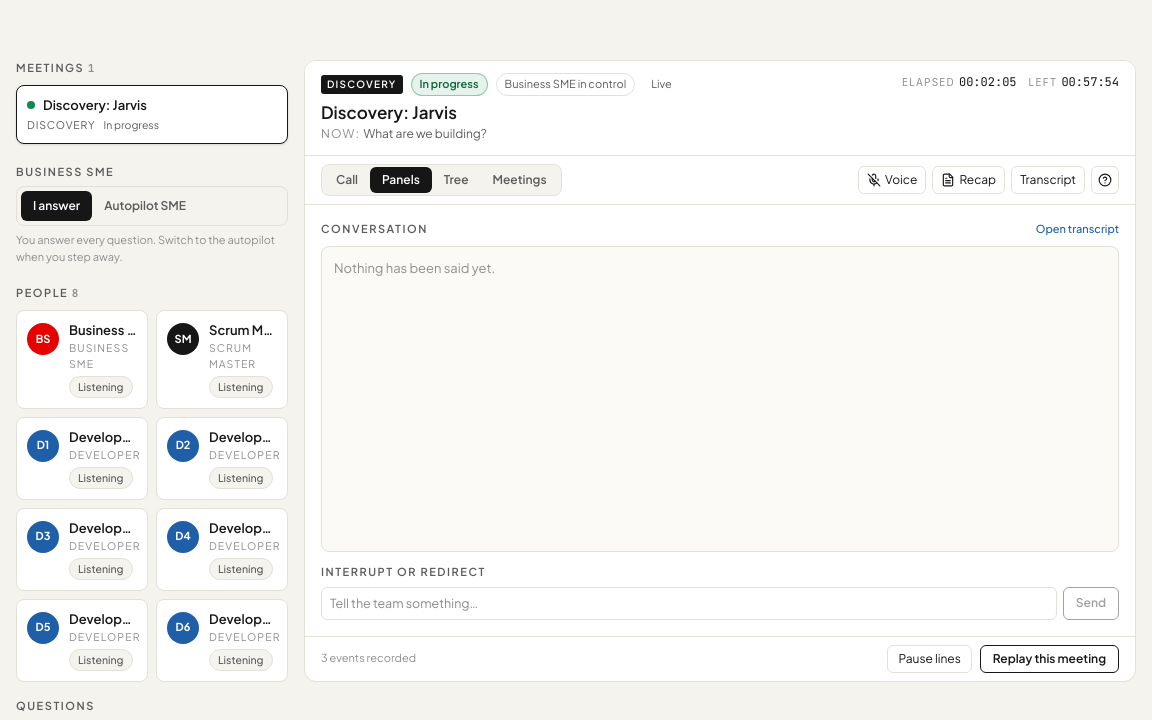
Test: the conversation › says so when nothing has been said, and opens the transcript in a dialog that closes
This screenshot has width=1152, height=720.
Expected: the header with test id "meeting-header" is shown, [305,61,1135,156]
Expected: the text "Nothing has been said yet." is shown, [334,260,495,276]
Click the button "Open transcript" at (1077, 229), box [1036,221,1119,238]
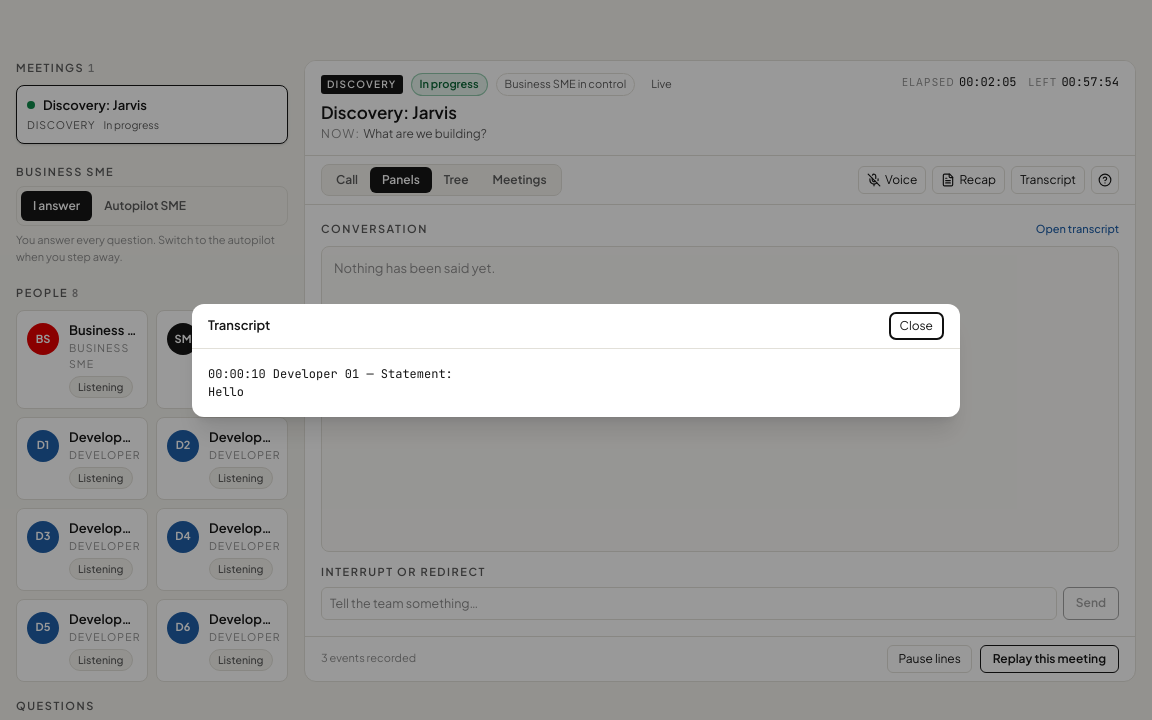
Expected: the text with test id "transcript-text" shows "Developer 01 — Statement", [208,366,453,400]
Click the button "Close" at (916, 326), box [888,312,944,340]
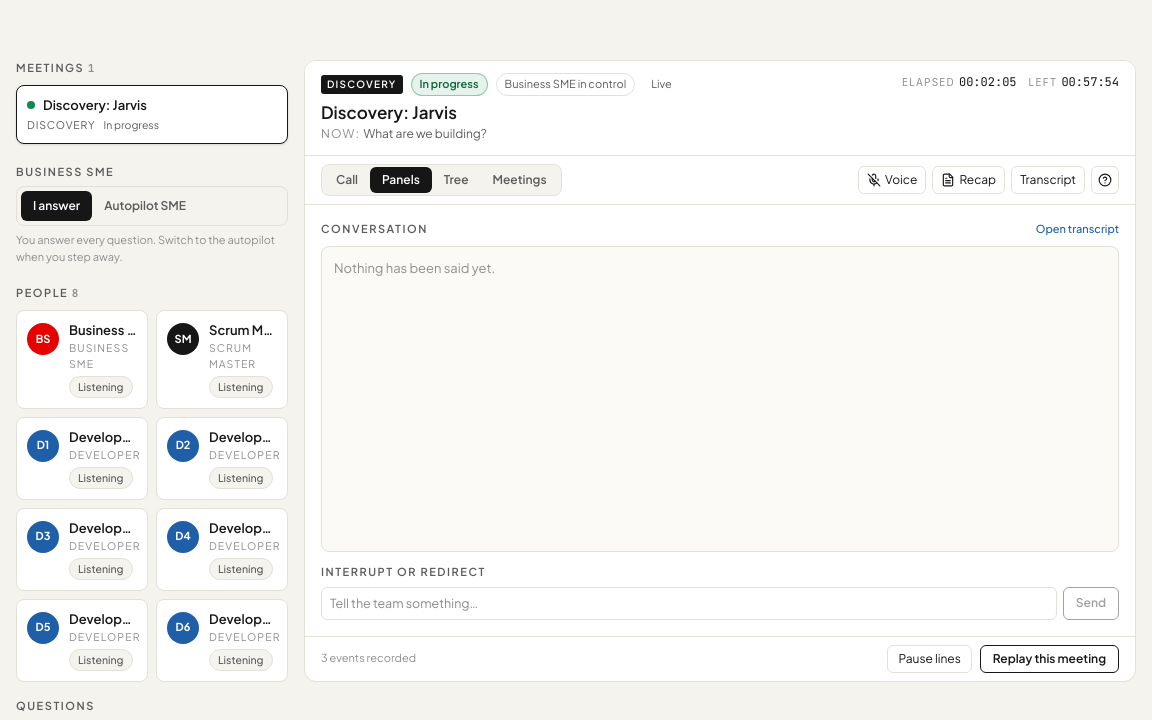
Expected: the dialog is gone
